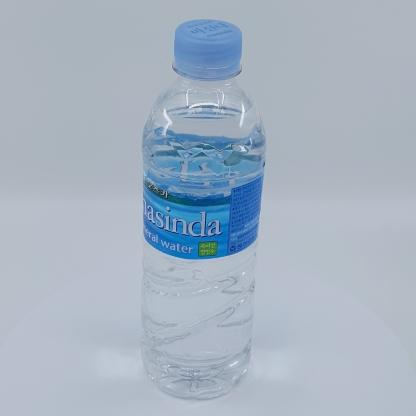-------------500ML: (141, 19, 267, 400)
